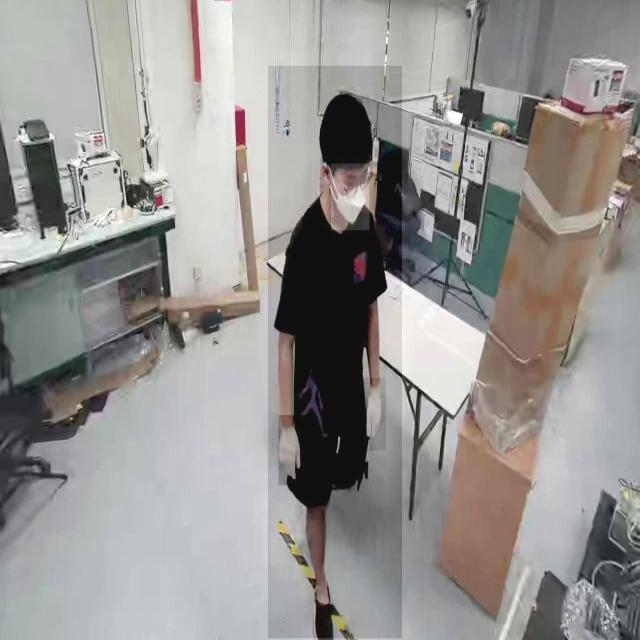face_mask: (331, 164, 369, 230)
glasses: (343, 165, 370, 199)
hand_glove: (278, 415, 308, 486), (363, 378, 387, 452)
head_nohelmet: (319, 90, 371, 132)
person: (268, 66, 402, 639)
shoes: (308, 577, 336, 640)
